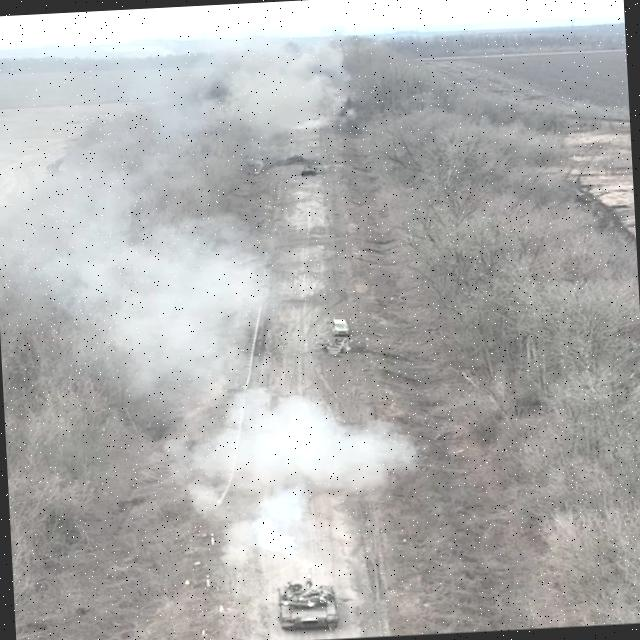AIFV: (301, 163, 318, 179)
Destroyed: (288, 155, 304, 165)
MBT: (275, 563, 342, 636)
Vehicle: (331, 318, 351, 338)
